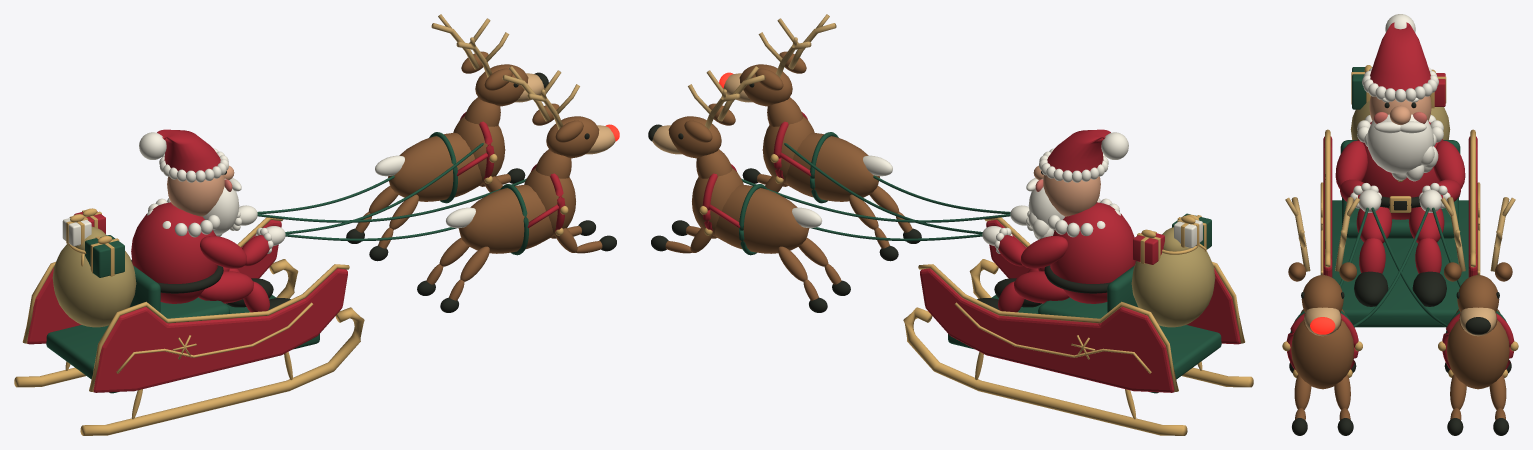
The model's file is treno-natal.glb.
The picture shows the model from 3 angles, left to right: view 1: azimuth 30°, elevation 25°; view 2: azimuth 150°, elevation 25°; view 3: azimuth 270°, elevation 25°; orthographic projection. The views are drawn at different scales.
Parts seen in each view (by area): view 1: SLEIGH_curved_side_-1, SANTA_body, CARGO_present_sack, DEER_0_body, DEER_1_body, SLEIGH_gold_runner_-1, SLEIGH_curved_side_1, SLEIGH_inner_floor, SANTA_bent_hat, SLEIGH_gold_upper_edge_-1, SANTA_head, DEER_0_chest (+19 smaller); view 2: SLEIGH_curved_side_1, SANTA_body, CARGO_present_sack, DEER_1_body, DEER_0_body, SLEIGH_gold_runner_1, SLEIGH_curved_side_-1, SLEIGH_inner_floor, SANTA_bent_hat, SLEIGH_gold_upper_edge_1, SANTA_head, DEER_1_chest (+19 smaller); view 3: SLEIGH_inner_floor, DEER_1_chest, DEER_0_chest, SANTA_bent_hat, SANTA_beard, SANTA_body, DEER_0_head, DEER_1_head, SLEIGH_seat_cushion, SANTA_upper_arm_-1, SANTA_upper_arm_1, SANTA_boot_1 (+46 smaller).
Part boxes in pixels (bbox=[...]): SLEIGH_curved_side_-1: bbox=[93, 268, 347, 392]; SANTA_body: bbox=[131, 202, 217, 303]; CARGO_present_sack: bbox=[52, 244, 136, 327]; DEER_0_body: bbox=[458, 184, 552, 253]; DEER_1_body: bbox=[388, 132, 482, 201]; SLEIGH_gold_runner_-1: bbox=[80, 307, 364, 435]; SLEIGH_curved_side_1: bbox=[27, 219, 281, 344]; SLEIGH_inner_floor: bbox=[46, 295, 319, 393]; SANTA_bent_hat: bbox=[157, 129, 220, 172]; SLEIGH_gold_upper_edge_-1: bbox=[89, 264, 349, 391]; SANTA_head: bbox=[167, 175, 224, 216]; DEER_0_chest: bbox=[524, 168, 575, 236]; SLEIGH_curved_side_1: bbox=[920, 268, 1174, 392]; SANTA_body: bbox=[1050, 202, 1135, 303]; CARGO_present_sack: bbox=[1131, 246, 1215, 327]; DEER_1_body: bbox=[715, 184, 809, 253]; DEER_0_body: bbox=[785, 132, 879, 201]; SLEIGH_gold_runner_1: bbox=[903, 307, 1187, 435]; SLEIGH_curved_side_-1: bbox=[986, 219, 1240, 344]; SLEIGH_inner_floor: bbox=[948, 295, 1221, 393]; SANTA_bent_hat: bbox=[1047, 129, 1110, 172]; SLEIGH_gold_upper_edge_1: bbox=[918, 264, 1178, 391]; SANTA_head: bbox=[1043, 175, 1100, 216]; DEER_1_chest: bbox=[692, 168, 743, 236]; SLEIGH_inner_floor: bbox=[1332, 200, 1468, 327]; DEER_1_chest: bbox=[1446, 320, 1509, 388]; DEER_0_chest: bbox=[1291, 320, 1354, 388]; SANTA_bent_hat: bbox=[1370, 22, 1430, 91]; SANTA_beard: bbox=[1367, 114, 1433, 173]; SANTA_body: bbox=[1357, 121, 1443, 219]; DEER_0_head: bbox=[1301, 275, 1343, 312]; DEER_1_head: bbox=[1457, 275, 1499, 312]; SLEIGH_seat_cushion: bbox=[1342, 197, 1458, 238]; SANTA_upper_arm_-1: bbox=[1335, 140, 1367, 188]; SANTA_upper_arm_1: bbox=[1433, 140, 1465, 188]; SANTA_boot_1: bbox=[1412, 271, 1446, 306].
Bounding box in the file's own units: 5.29 × 2.45 × 1.85.
